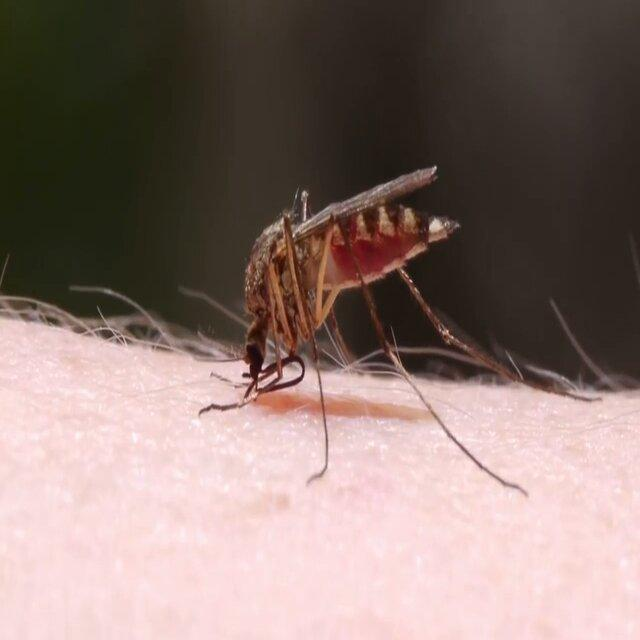mosquitos: (245, 166, 459, 388)
